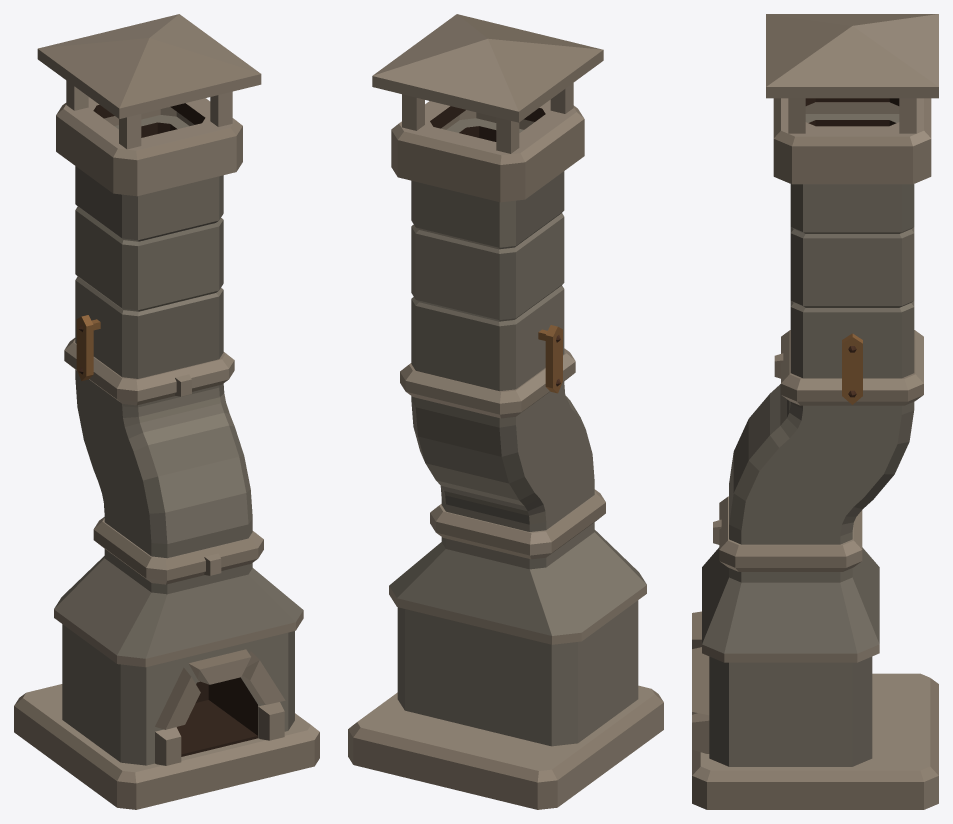
The model's file is workshop-exhaust-modules-94599c.glb.
The picture shows the model from 3 angles, left to right: view 1: azimuth 30°, elevation 25°; view 2: azimuth 150°, elevation 25°; view 3: azimuth 270°, elevation 25°; orthographic projection. The views are drawn at different scales.
Visible parts, largest first — view 1: exhaust-body, cap-mesh, damper-mesh; view 2: exhaust-body, cap-mesh, damper-mesh; view 3: exhaust-body, cap-mesh, damper-mesh.
Boxes of the visible parts, bbox=[...] form: exhaust-body: bbox=[14, 107, 319, 809]; cap-mesh: bbox=[37, 14, 261, 196]; damper-mesh: bbox=[76, 315, 100, 381]; exhaust-body: bbox=[348, 110, 663, 809]; cap-mesh: bbox=[372, 14, 603, 202]; damper-mesh: bbox=[538, 325, 562, 393]; exhaust-body: bbox=[692, 102, 938, 809]; cap-mesh: bbox=[766, 14, 938, 184]; damper-mesh: bbox=[842, 333, 862, 404].
Size of the model in its own units: 1 by 3.27 by 1.
